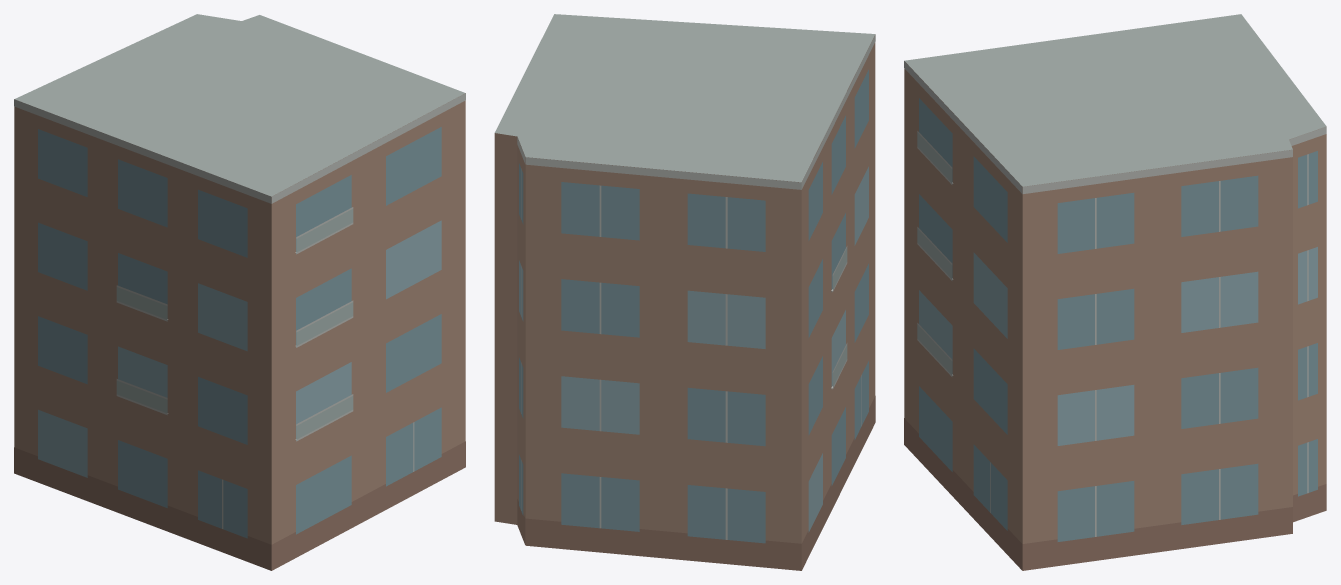
The model's file is survey-upis-32615313.glb.
3 renders of one model, left to right at view 1: azimuth 30°, elevation 25°; view 2: azimuth 150°, elevation 25°; view 3: azimuth 270°, elevation 25°, orthographic. The views are drawn at different scales.
Visible parts, largest first — view 1: survey-upis-32615313.tmp; view 2: survey-upis-32615313.tmp; view 3: survey-upis-32615313.tmp.
Part boxes in pixels (bbox=[...]): survey-upis-32615313.tmp: bbox=[14, 14, 465, 570]; survey-upis-32615313.tmp: bbox=[494, 14, 875, 570]; survey-upis-32615313.tmp: bbox=[904, 14, 1326, 570].
Bounding box in the file's own units: 12.06 × 12.5 × 12.47.
